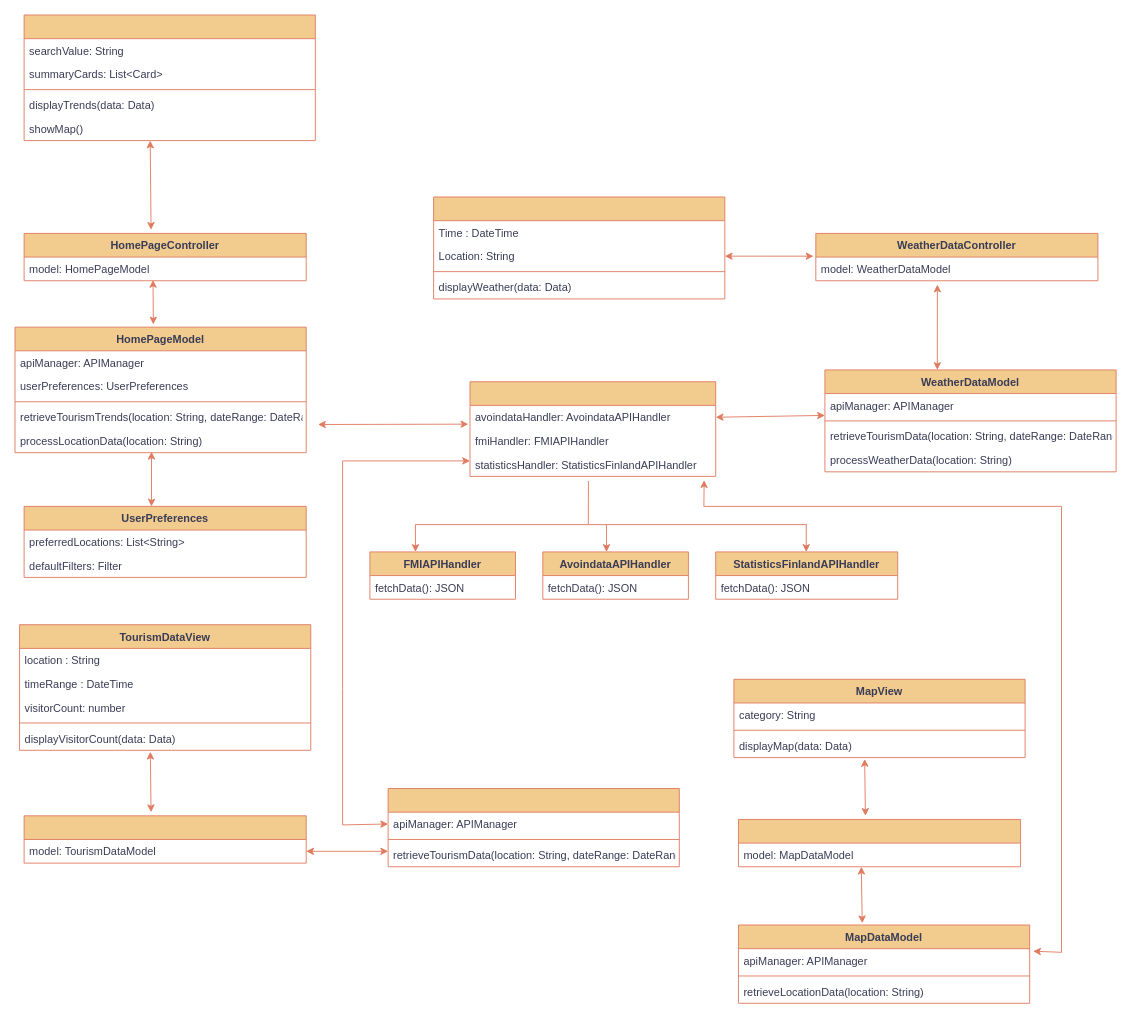
Image size: 1139x1018. Some labels were removed from this diagram. The box of each missing label's shape, as (x1, y1, x2, y2) in pixels:
APIManager: (469, 381, 716, 476)
HomePageView: (23, 14, 315, 141)
MapController: (738, 819, 1021, 867)
TourismDataController: (23, 815, 306, 863)
TourismDataModel: (387, 788, 679, 867)
WeatherDataView: (433, 196, 725, 299)
